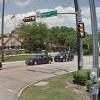Car: (24, 45, 76, 65)
